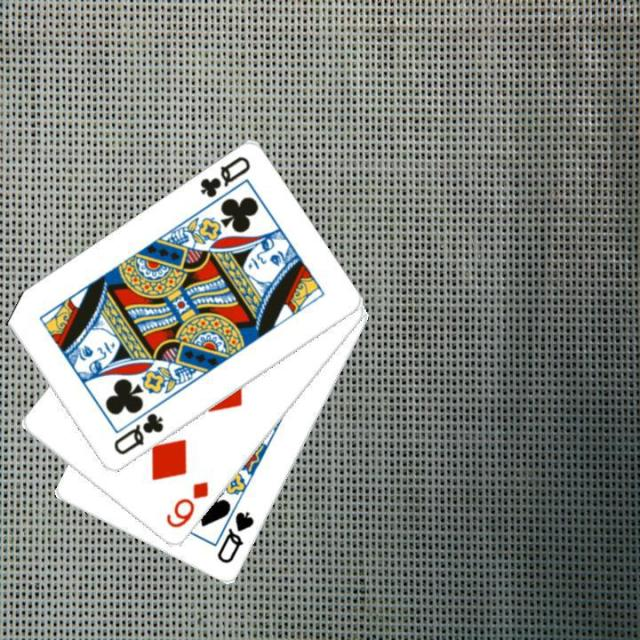6D: (162, 477, 210, 531)
QC: (110, 409, 166, 458), (195, 153, 252, 201)
QS: (212, 508, 256, 566)
